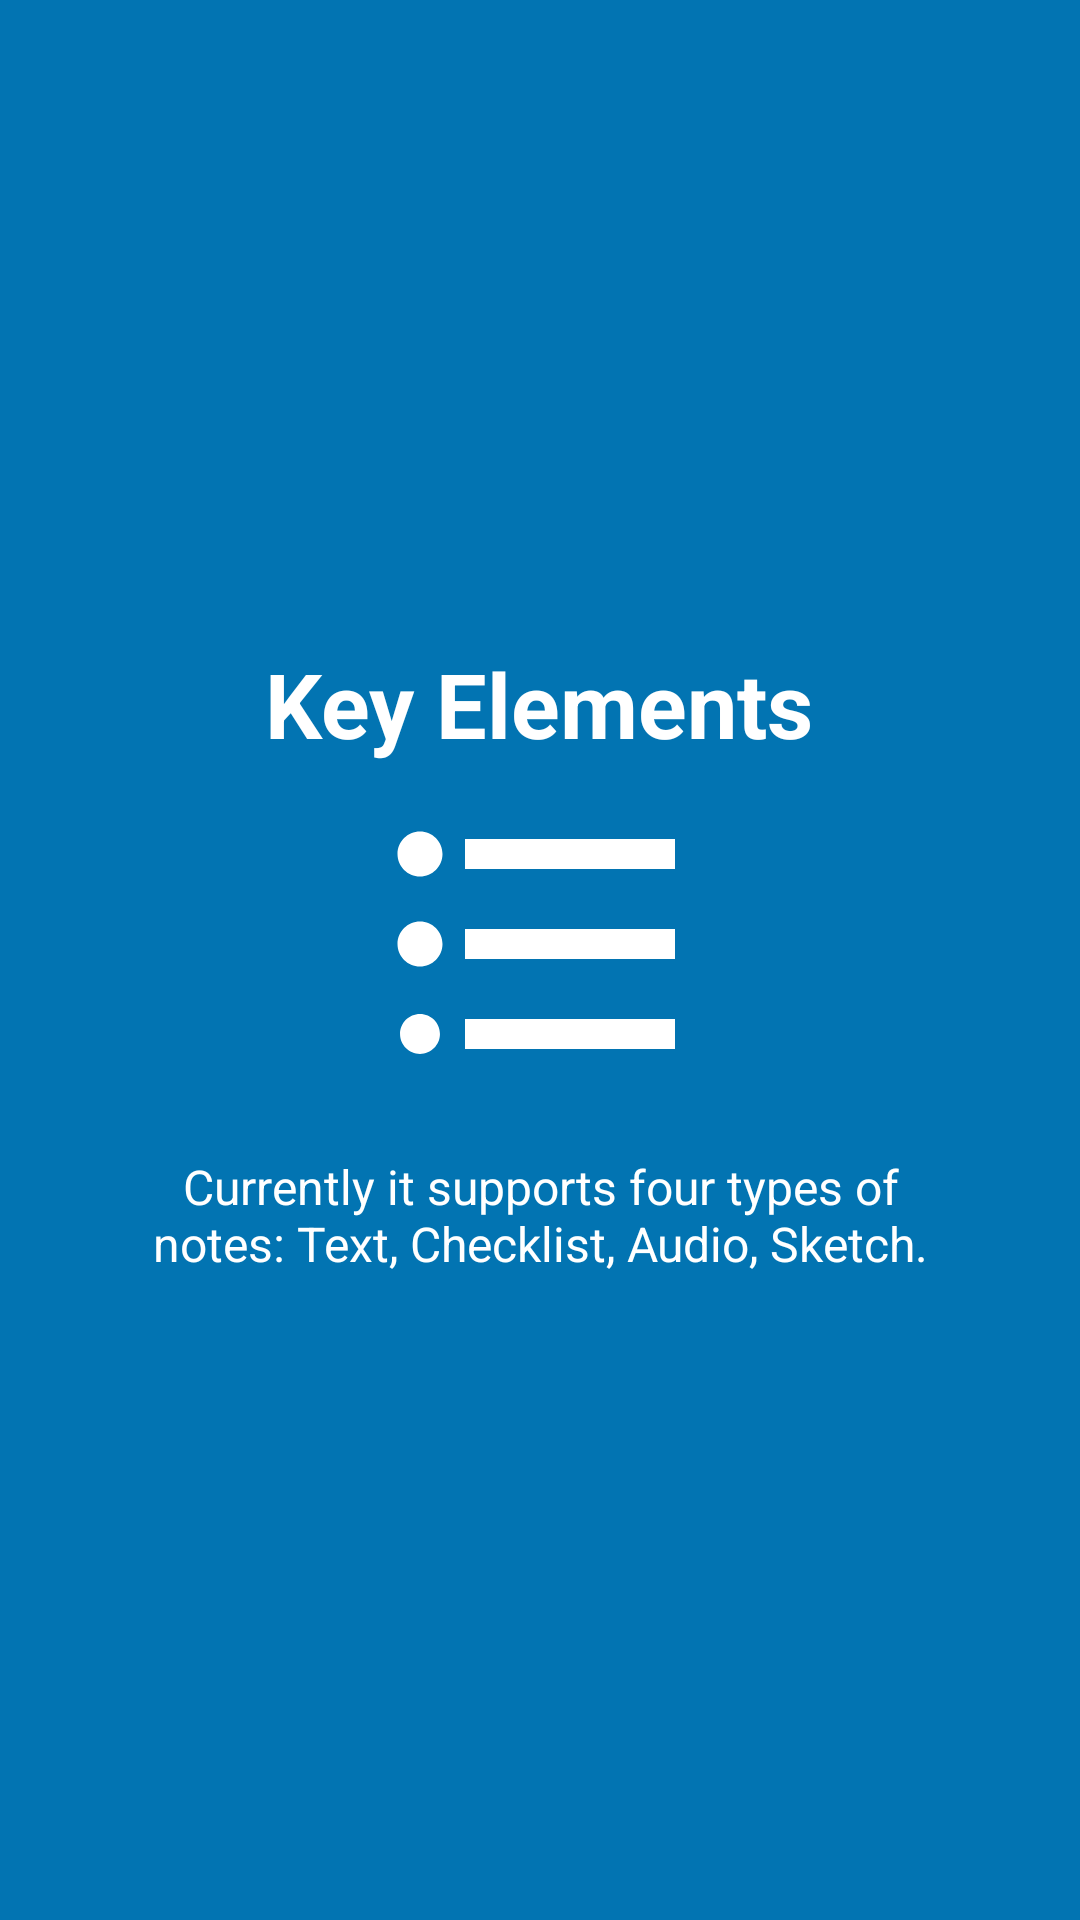

Where to tap for icons on this 1080×1920 app screen, as point (x, y):
format list bulleted: point (536, 942)
